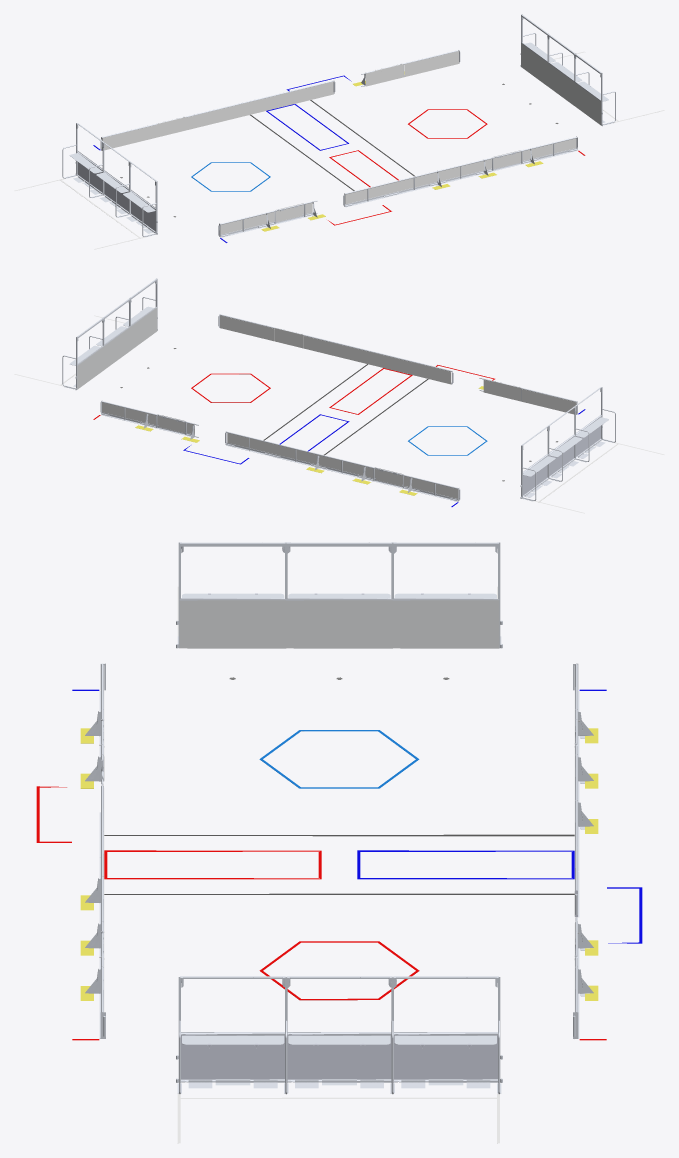
File: FieldBase.fbx
3 views of the same model, one above another, from view 1: azimuth 30°, elevation 25°; view 2: azimuth 150°, elevation 25°; view 3: azimuth 270°, elevation 25° (orthographic). The views are drawn at different scales.
Parts seen in each view (by area): view 1: FE-00004-01, FE-00004-01.002, FE-00004-01.001, FE-00010.002, FE-00010.003, FE-00010, FE-00010.001, FE-00009.005, FE-00009.003, FE-00009.004, FE-00044.003, FE-00044.002 (+1 smaller); view 2: FE-00004-01, FE-00004-01.001, FE-00004-01.002, FE-00010, FE-00010.001, FE-00010.003, FE-00010.002, FE-00009, FE-00009.001, FE-00009.002, FE-00044.001, FE-00044 (+1 smaller); view 3: FE-00004-01.004, FE-00004-01.005, FE-00004-01.003, FE-00004-01.001, FE-00004-01, FE-00004-01.002, FE-00004-06.002, FE-00004-06, FE-00004-06.001, tape_AutoLine.
Boxes of the visible parts, x1,y1,x2,y2 form: FE-00004-01: (574, 83, 601, 125); FE-00004-01.002: (521, 43, 547, 86); FE-00004-01.001: (548, 63, 574, 105); FE-00010.002: (209, 100, 255, 124); FE-00010.003: (255, 89, 301, 113); FE-00010: (423, 164, 469, 185); FE-00010.001: (376, 175, 422, 196); FE-00009.005: (125, 125, 157, 144); FE-00009.003: (302, 81, 333, 101); FE-00009.004: (404, 56, 435, 76); FE-00044.003: (157, 117, 186, 137); FE-00044.002: (374, 64, 403, 84); FE-00004-01: (130, 308, 157, 350); FE-00004-01.001: (104, 327, 130, 369); FE-00004-01.002: (77, 346, 103, 389); FE-00010: (327, 341, 373, 365); FE-00010.001: (373, 352, 419, 376); FE-00010.003: (259, 440, 305, 461); FE-00010.002: (305, 452, 351, 472); FE-00009: (419, 364, 451, 384); FE-00009.001: (243, 321, 274, 341); FE-00009.002: (522, 389, 553, 409); FE-00044.001: (492, 381, 521, 401); FE-00044: (275, 328, 303, 348); FE-00004-01.004: (179, 600, 286, 648); FE-00004-01.005: (392, 600, 499, 648); FE-00004-01.003: (286, 600, 392, 648); FE-00004-01.001: (287, 1035, 391, 1079); FE-00004-01: (181, 1035, 284, 1079); FE-00004-01.002: (394, 1035, 497, 1079); FE-00004-06.002: (288, 1035, 390, 1044); FE-00004-06: (394, 1035, 496, 1044); FE-00004-06.001: (182, 1035, 284, 1044); tape_AutoLine: (104, 834, 574, 836).
Bounding box in the file's own units: 2256 × 198 × 1037.
